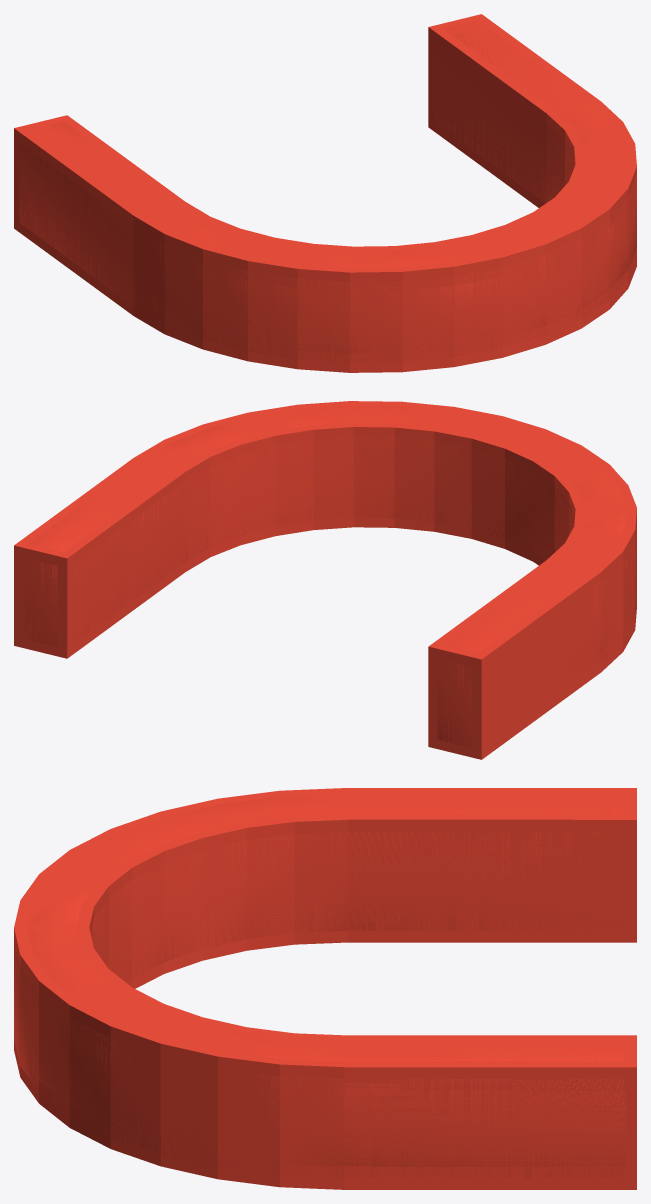
File: picker.fbx
3 renders of one model, top to bottom at view 1: azimuth 30°, elevation 25°; view 2: azimuth 150°, elevation 25°; view 3: azimuth 270°, elevation 25°, orthographic. The views are drawn at different scales.
Visible parts, largest first — view 1: Picker1, Picker2, Picker3; view 2: Picker1, Picker2; view 3: Picker1, Picker2, Picker3.
Boxes of the visible parts, box(x1,y1,x2,y2) form: Picker1: box(14, 14, 636, 372); Picker2: box(19, 20, 636, 363); Picker3: box(18, 151, 636, 353); Picker1: box(14, 401, 636, 759); Picker2: box(23, 406, 636, 747); Picker1: box(14, 788, 636, 1189); Picker2: box(14, 793, 623, 1177); Picker3: box(14, 953, 626, 1166).
Bounding box in the file's own units: 54.14 × 11.1 × 51.06.
